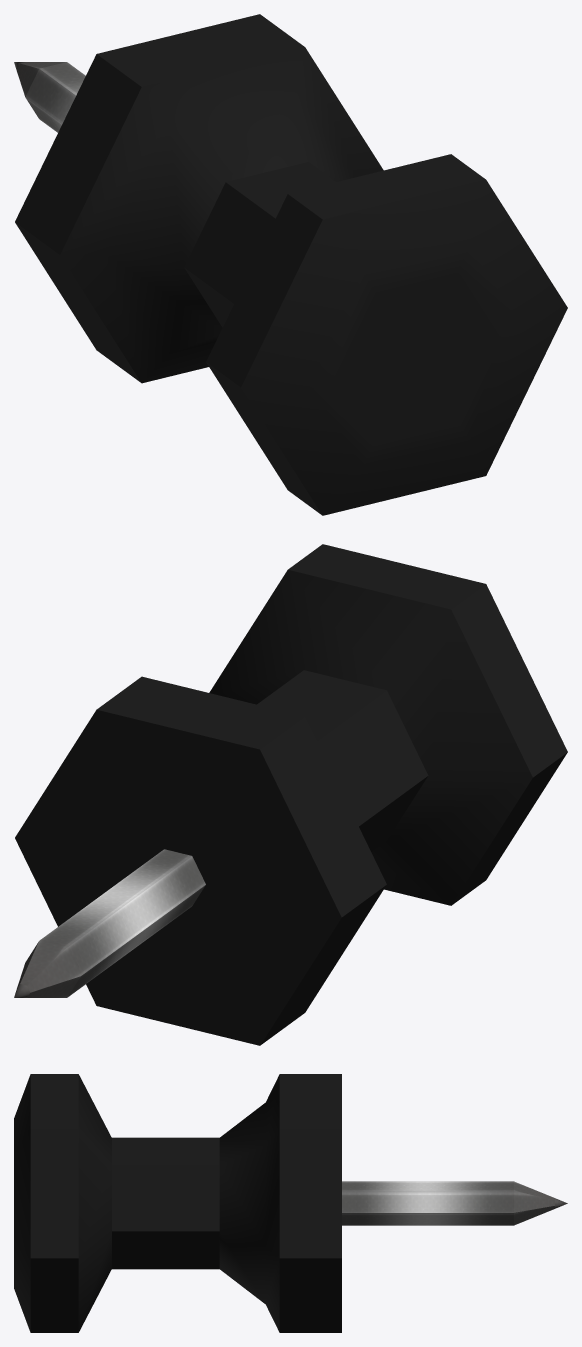
The model's file is Tack_A.FBX.
3 renders of one model, top to bottom at view 1: azimuth 30°, elevation 25°; view 2: azimuth 150°, elevation 25°; view 3: azimuth 270°, elevation 25°, orthographic. The views are drawn at different scales.
Parts seen in each view (by area): view 1: Tack; view 2: Tack; view 3: Tack.
Part boxes in pixels (x1,y1,x2,y2): Tack: [14, 14, 567, 515]; Tack: [14, 544, 567, 1045]; Tack: [14, 1074, 567, 1332].
Size of the model in its own units: 6.28 by 5.43 by 13.38.
